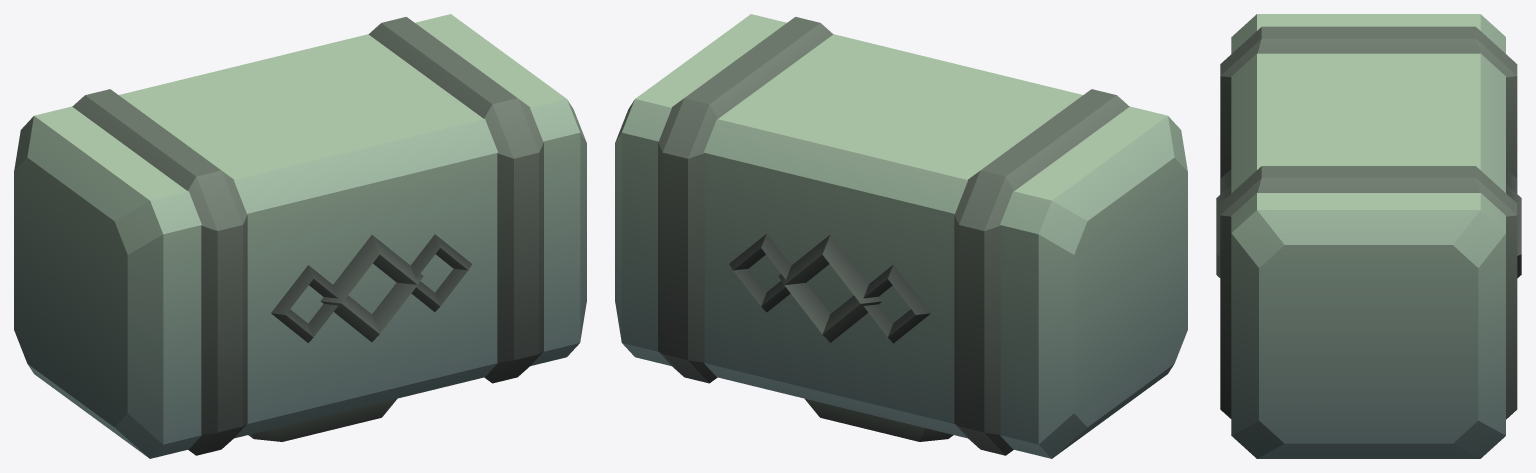
File: hammer-head_001.fbx
3 views of the same model, side by side, from view 1: azimuth 30°, elevation 25°; view 2: azimuth 150°, elevation 25°; view 3: azimuth 270°, elevation 25° (orthographic). The views are drawn at different scales.
Visible parts, largest first — view 1: hammer-head.001; view 2: hammer-head.001; view 3: hammer-head.001.
Part boxes in pixels (x1,y1,x2,y2): hammer-head.001: (14,14,586,458); hammer-head.001: (615,14,1187,458); hammer-head.001: (1216,14,1521,458).
Bounding box in the file's own units: 44.64 × 28.79 × 26.65.
